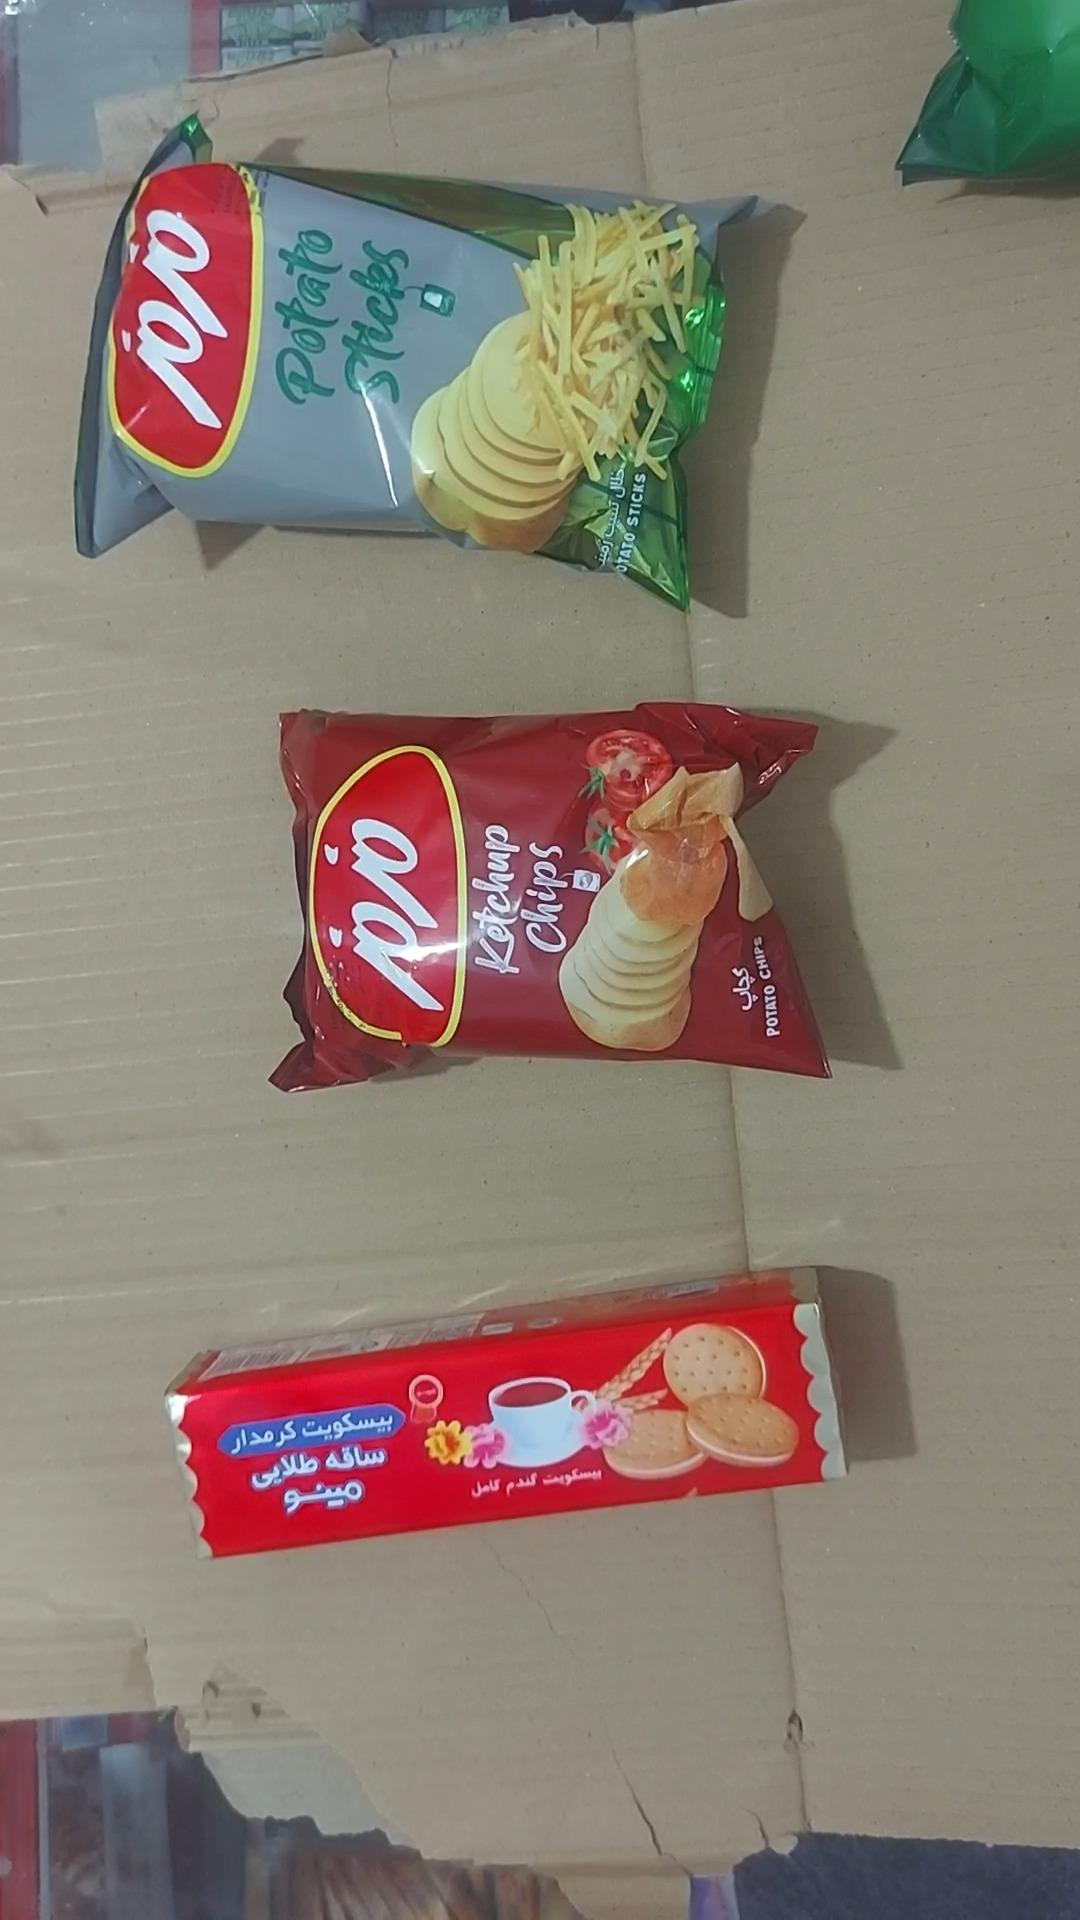Maz Maz ketchup chips: (268, 702, 833, 1095)
Maz Maz potato sticks: (75, 115, 760, 611)
Minoo cream biscuit: (166, 1266, 848, 1561)
